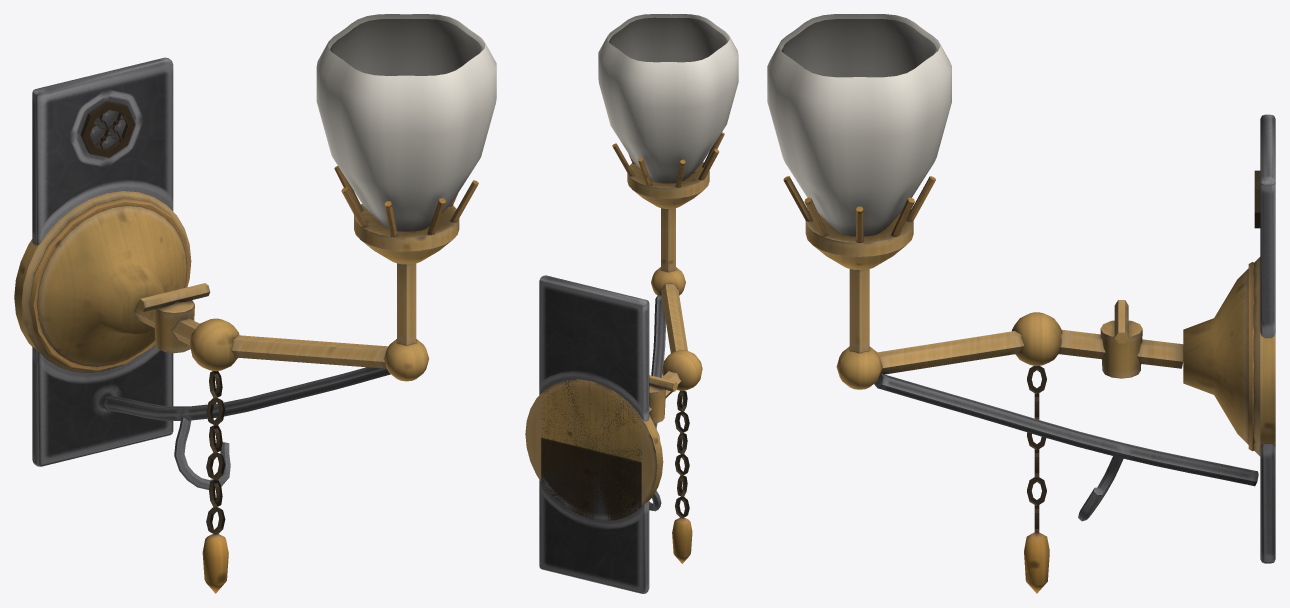
File: SconceGasBracket.fbx
3 views of the same model, side by side, from view 1: azimuth 30°, elevation 25°; view 2: azimuth 150°, elevation 25°; view 3: azimuth 270°, elevation 25° (orthographic). The views are drawn at different scales.
Parts seen in each view (by area): view 1: SconceGasBracket_Main, SconceGasBracket_Glow; view 2: SconceGasBracket_Main, SconceGasBracket_Glow; view 3: SconceGasBracket_Main, SconceGasBracket_Glow.
Boxes of the visible parts, bbox=[...] form: SconceGasBracket_Main: bbox=[14, 57, 478, 593]; SconceGasBracket_Glow: bbox=[316, 14, 496, 231]; SconceGasBracket_Main: bbox=[525, 132, 724, 593]; SconceGasBracket_Glow: bbox=[598, 14, 738, 183]; SconceGasBracket_Main: bbox=[783, 114, 1275, 593]; SconceGasBracket_Glow: bbox=[767, 14, 951, 236].
Bounding box in the file's own units: 80.2 × 172 × 132.
